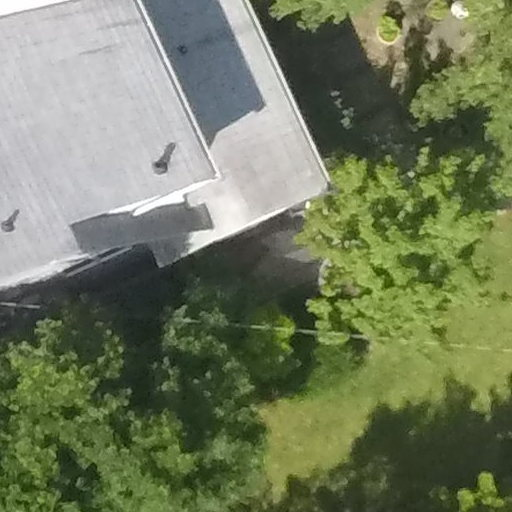container: (365, 11, 407, 48), (447, 1, 469, 21)
flower pot: (375, 13, 410, 48)
